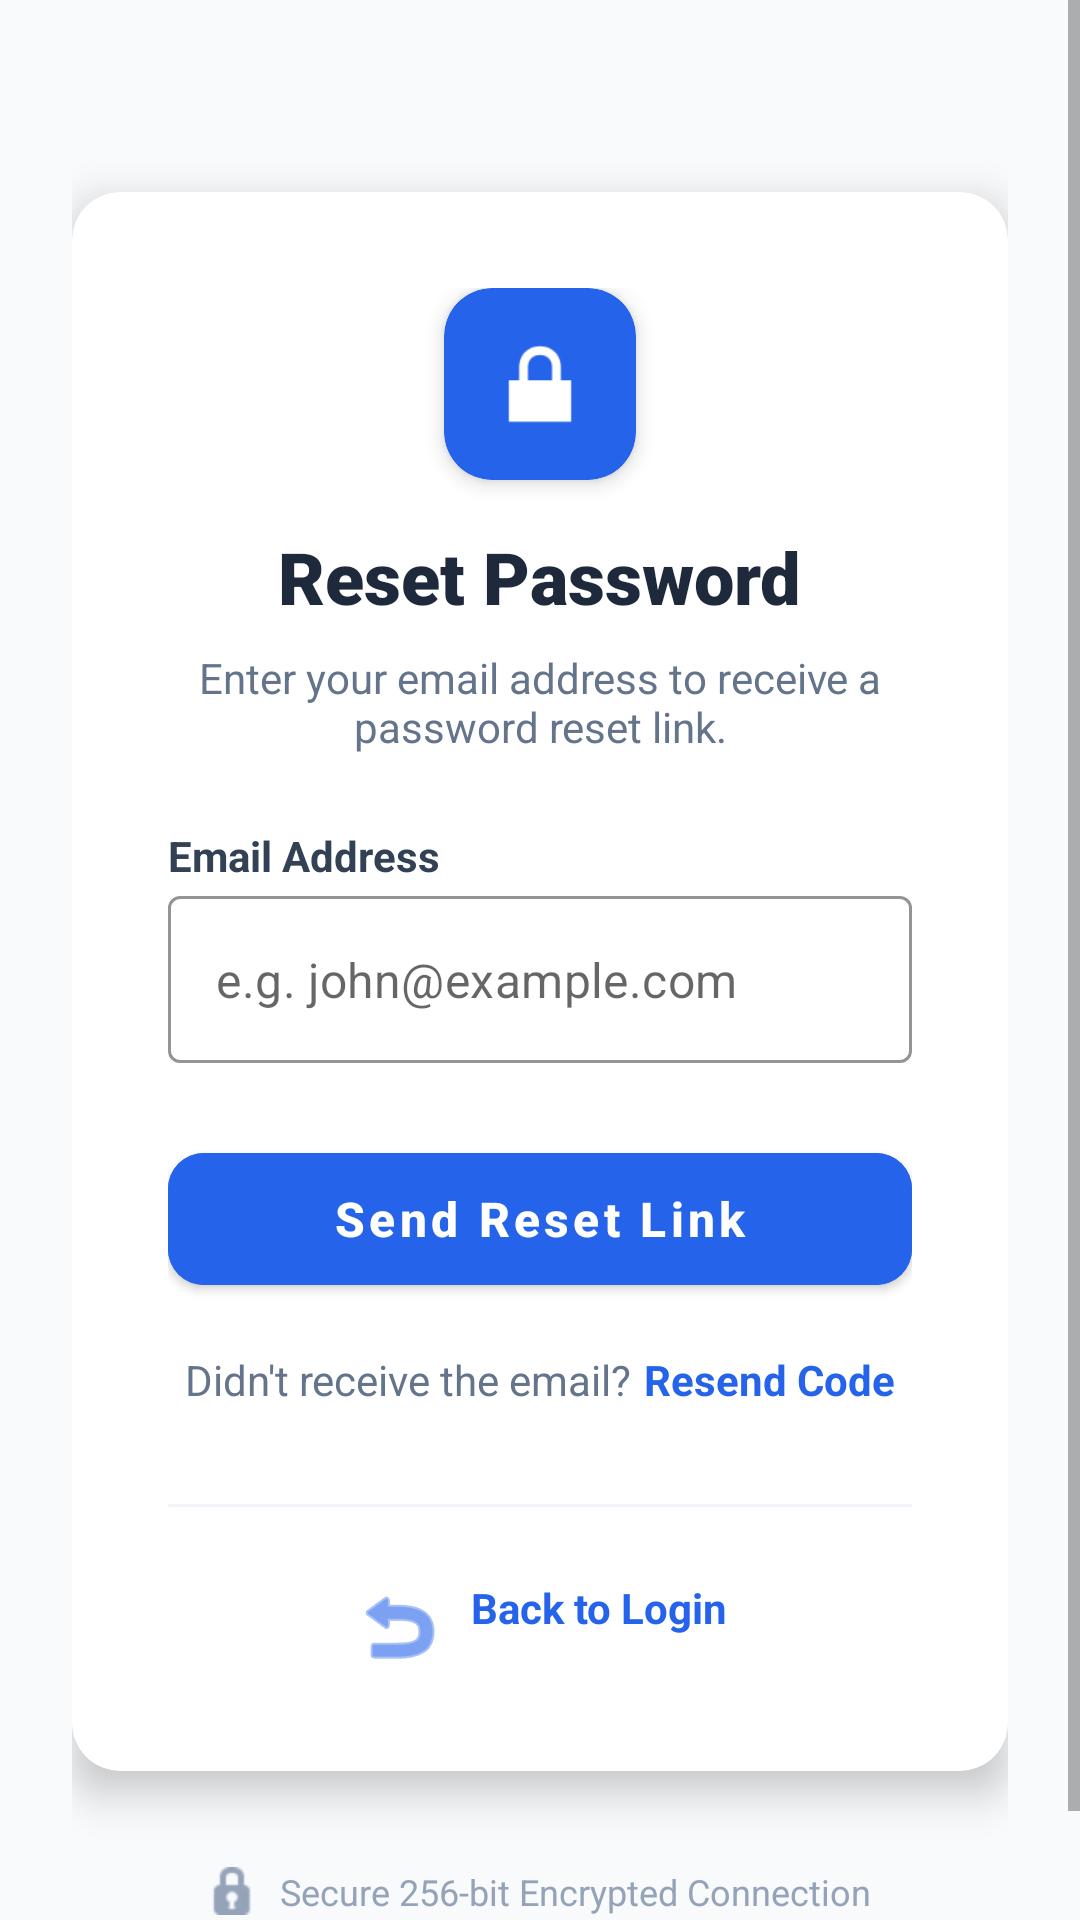

Icon bounding boxes for this 1080px×1920px phone screenshot, format (x1, y1, x2, y2):
lock: (508, 345, 572, 423)
